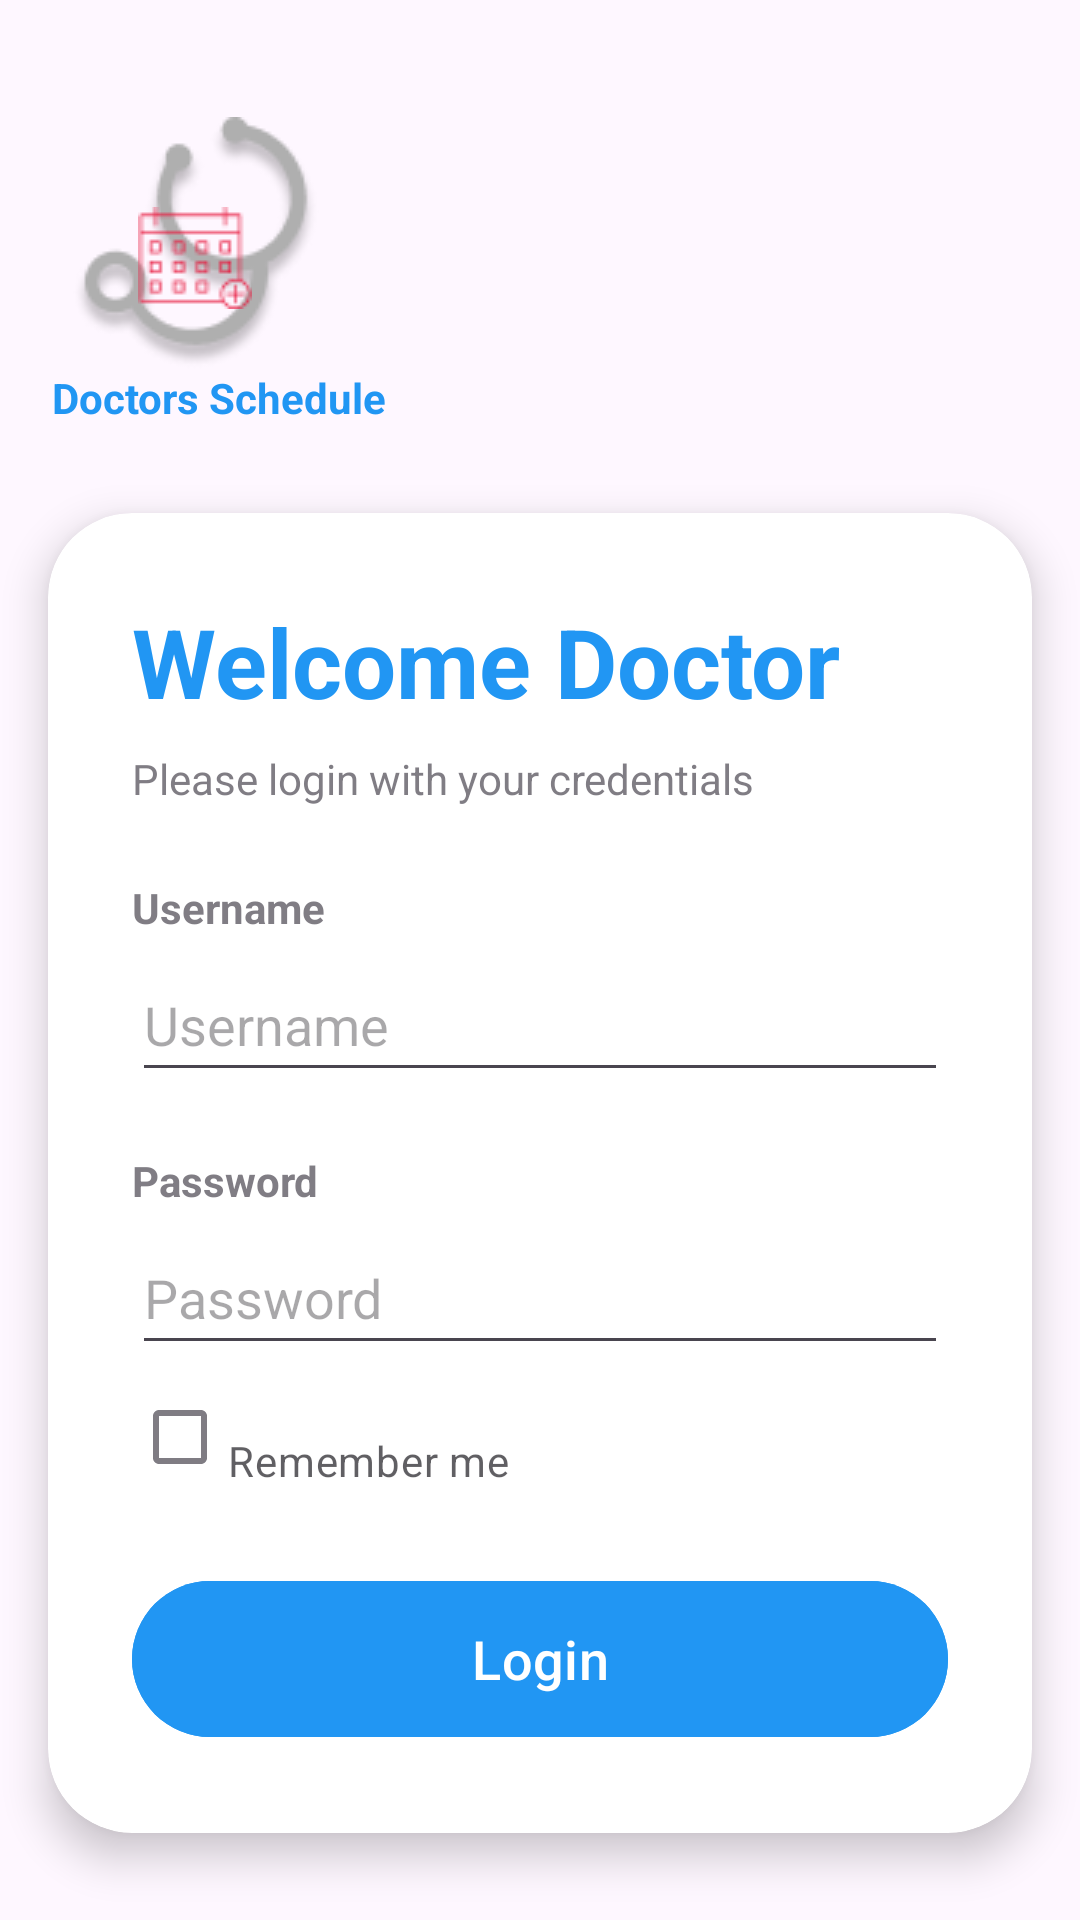

Icons on this 1080x1920 Android screen, each with its box as (x1, y1, x2, y2):
calendarlogin: (138, 207, 252, 309)
